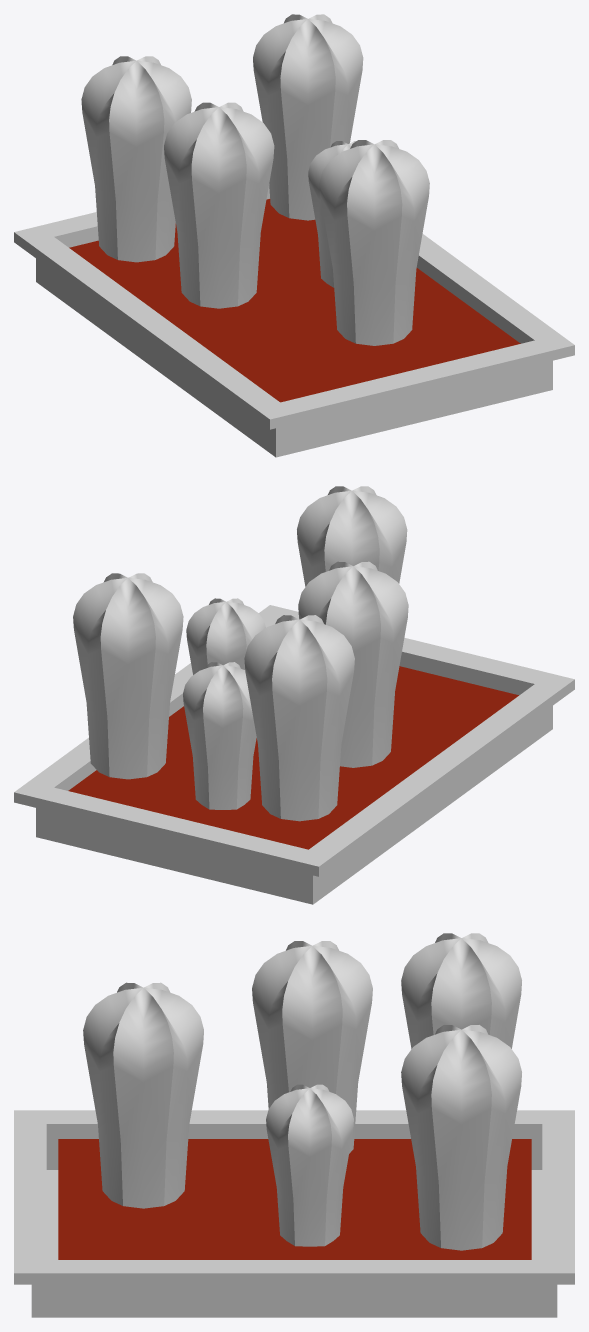
The model's file is BandejaCactus1.fbx.
3 renders of one model, top to bottom at view 1: azimuth 30°, elevation 25°; view 2: azimuth 150°, elevation 25°; view 3: azimuth 270°, elevation 25°, orthographic. The views are drawn at different scales.
Parts seen in each view (by area): view 1: Box001, Plane001, Capsule004, Capsule006, Capsule001, Capsule003, Capsule005; view 2: Box001, Plane001, Capsule003, Capsule001, Capsule004, Capsule002, Capsule006, Capsule005; view 3: Box001, Plane001, Capsule006, Capsule003, Capsule004, Capsule005, Capsule001.
Boxes of the visible parts, box(x1,y1,x2,y2) form: Box001: box(14, 184, 574, 457); Plane001: box(69, 199, 520, 402); Capsule004: box(164, 102, 274, 308); Capsule006: box(319, 140, 429, 345); Capsule001: box(81, 56, 191, 262); Capsule003: box(253, 14, 363, 220); Capsule005: box(308, 141, 356, 287); Box001: box(14, 605, 574, 904); Plane001: box(68, 666, 518, 849); Capsule003: box(73, 573, 183, 779); Capsule001: box(244, 615, 354, 821); Capsule004: box(298, 561, 408, 767); Capsule002: box(183, 662, 256, 809); Capsule006: box(297, 486, 407, 586); Capsule005: box(186, 598, 265, 674); Box001: box(14, 1110, 574, 1317); Plane001: box(58, 1139, 531, 1259); Capsule006: box(83, 982, 203, 1208); Capsule003: box(401, 1025, 521, 1250); Capsule004: box(252, 941, 372, 1153); Capsule005: box(266, 1084, 353, 1246); Capsule001: box(401, 933, 521, 1048).
Size of the model in its own units: 0.44 by 0.3299 by 0.64.
